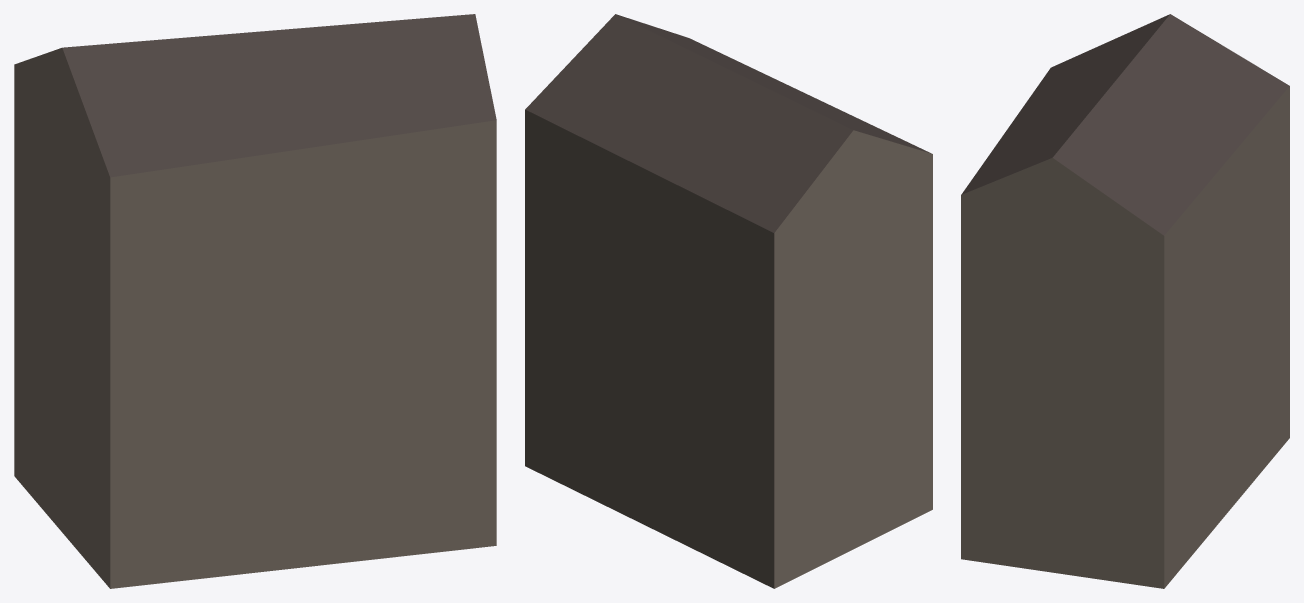
3 views of the same model, side by side, from view 1: azimuth 30°, elevation 25°; view 2: azimuth 150°, elevation 25°; view 3: azimuth 270°, elevation 25° (orthographic). The views are drawn at different scales.
Visible parts, largest first — view 1: HP-w1515071133; view 2: HP-w1515071133; view 3: HP-w1515071133.
Boxes of the visible parts, bbox=[...] form: HP-w1515071133: bbox=[14, 14, 496, 588]; HP-w1515071133: bbox=[525, 14, 932, 588]; HP-w1515071133: bbox=[961, 14, 1289, 588].
Size of the model in its own units: 6.18 by 7.07 by 5.08.
